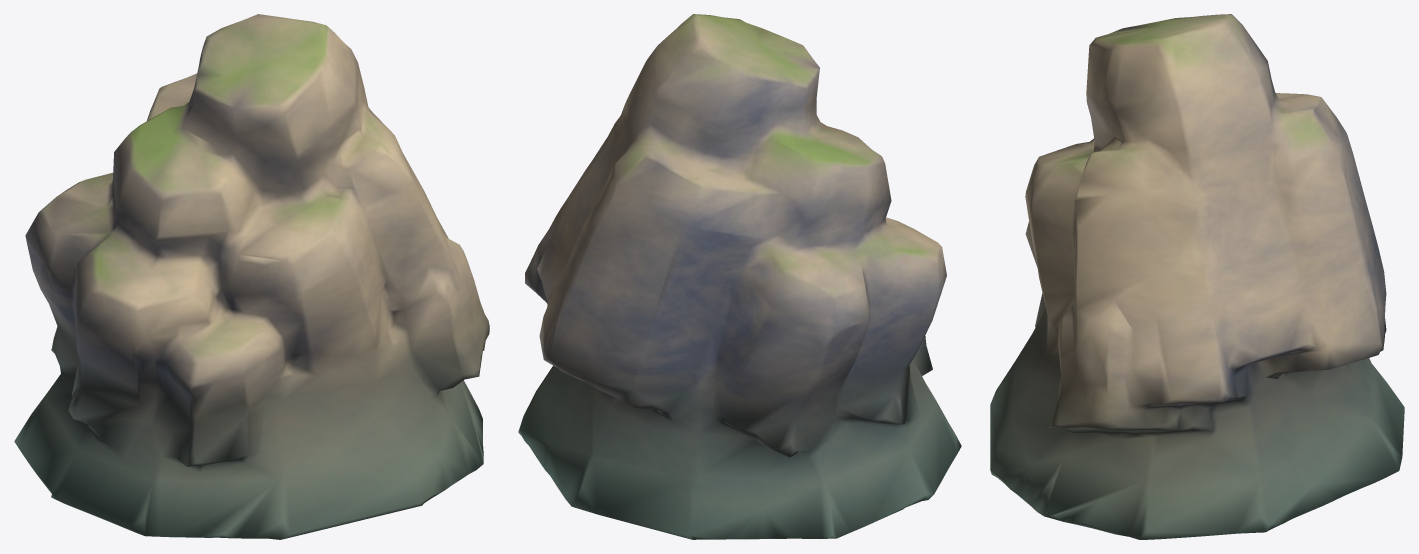
File: rock_cliff_crag.glb
3 renders of one model, left to right at view 1: azimuth 30°, elevation 25°; view 2: azimuth 150°, elevation 25°; view 3: azimuth 270°, elevation 25°, orthographic. The views are drawn at different scales.
Visible parts, largest first — view 1: rock_cliff_crag; view 2: rock_cliff_crag; view 3: rock_cliff_crag.
Part boxes in pixels (box(x1,y1,x2,y2)): rock_cliff_crag: box(14, 14, 489, 539); rock_cliff_crag: box(518, 14, 961, 539); rock_cliff_crag: box(990, 14, 1404, 539).
Bounding box in the file's own units: 3.23 × 3.25 × 2.83.
1 material, 1 textured.
